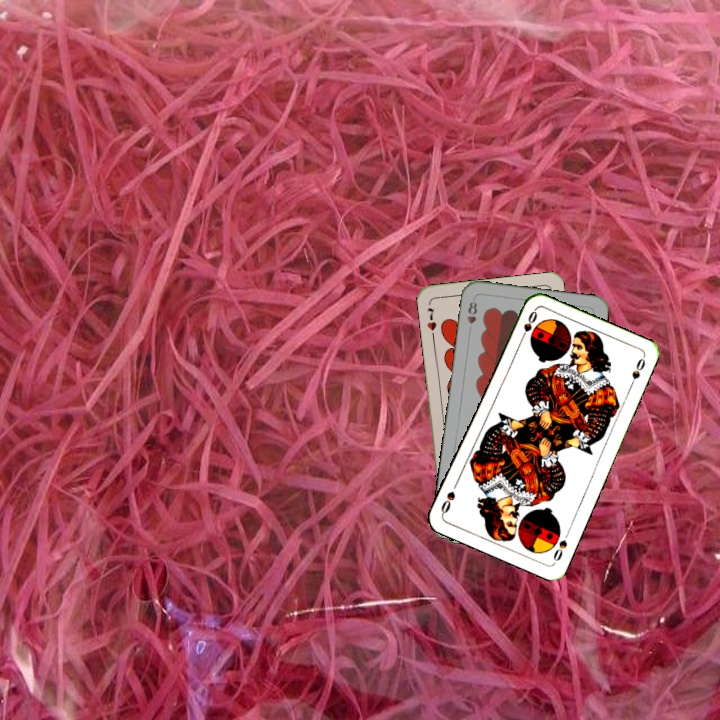H7: (423, 304, 439, 340)
H8: (463, 297, 480, 335)
SO: (516, 307, 540, 345), (549, 527, 572, 565)
